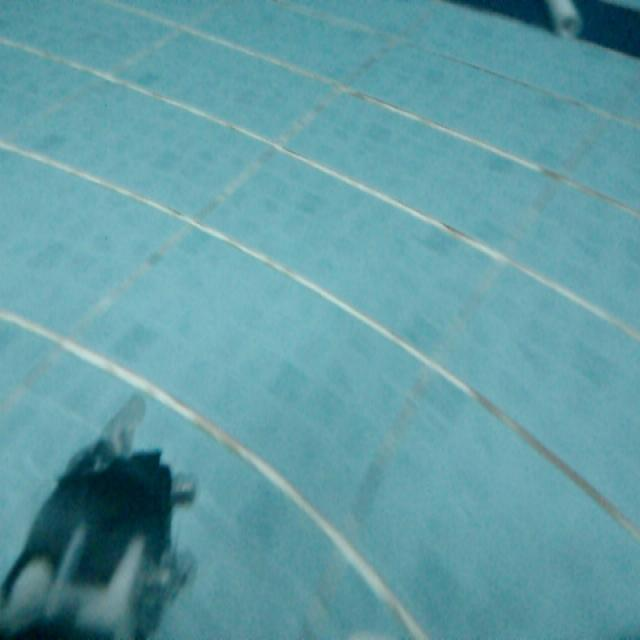Cube: (549, 0, 580, 45)
